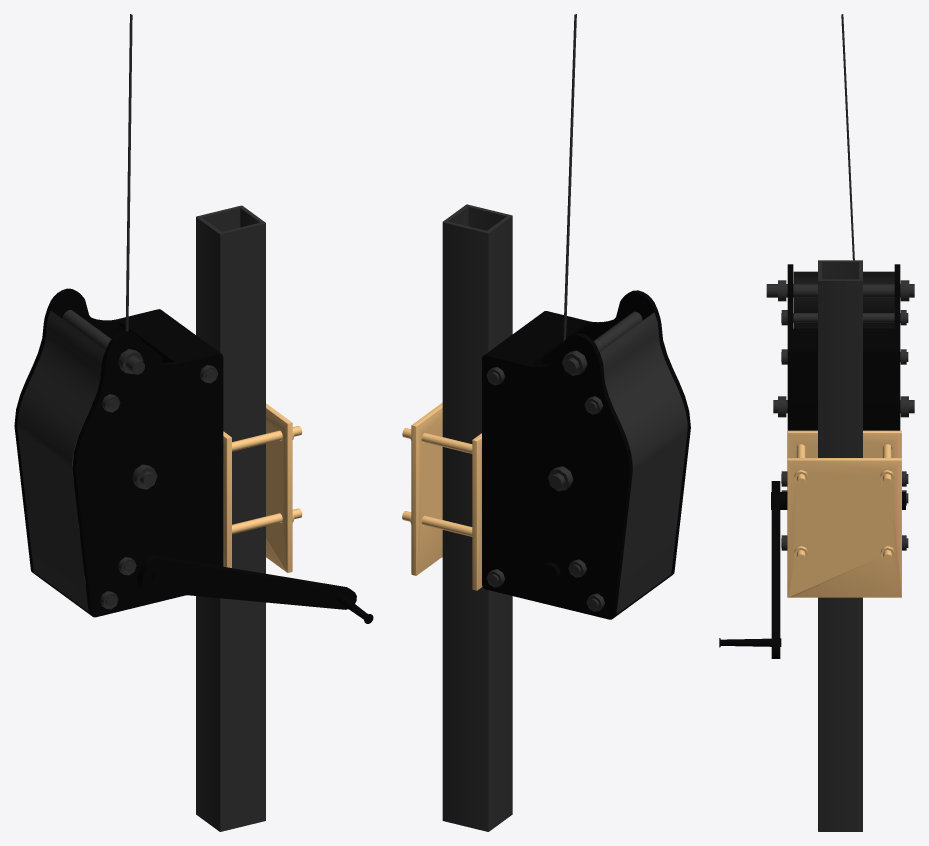
The picture shows the model from 3 angles, left to right: view 1: azimuth 30°, elevation 25°; view 2: azimuth 150°, elevation 25°; view 3: azimuth 270°, elevation 25°; orthographic projection. The views are drawn at different scales.
Parts seen in each view (by area): view 1: SM_PN817A; view 2: SM_PN817A; view 3: SM_PN817A.
Boxes of the visible parts, x1=… form: SM_PN817A: x1=14, y1=14, x2=373, y2=831; SM_PN817A: x1=402, y1=14, x2=690, y2=831; SM_PN817A: x1=719, y1=14, x2=914, y2=831.
Bounding box in the file's own units: 264 × 765 × 178.
